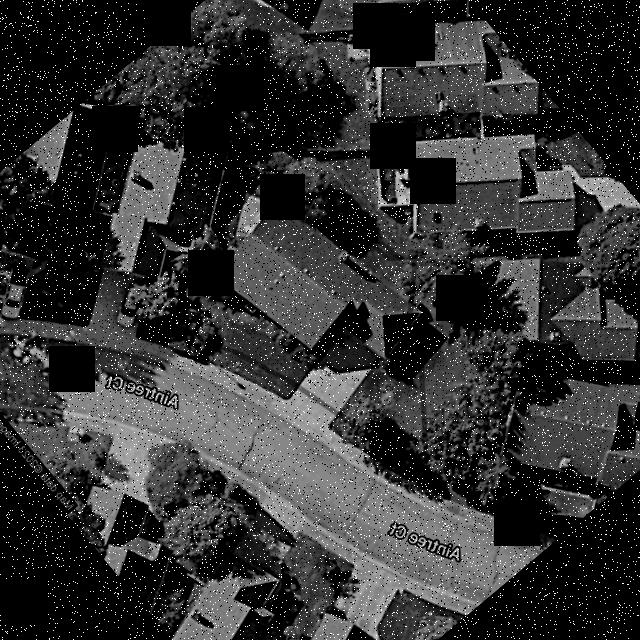Driveway: (299, 326, 379, 411)
Extra Driveway: (284, 389, 335, 428)
Extra Lawn: (169, 331, 296, 400), (326, 414, 428, 490)
House: (218, 202, 407, 357)
Other: (221, 178, 288, 237), (330, 300, 371, 345), (184, 307, 212, 334), (243, 303, 256, 314)
